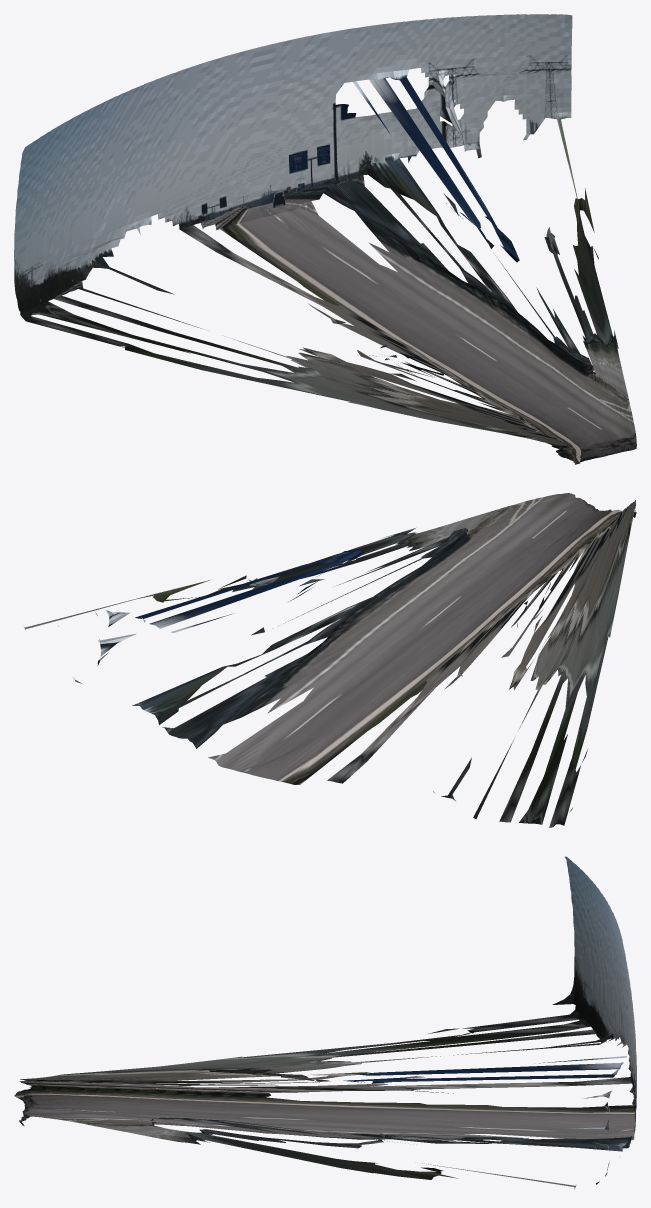
3 renders of one model, top to bottom at view 1: azimuth 30°, elevation 25°; view 2: azimuth 150°, elevation 25°; view 3: azimuth 270°, elevation 25°, orthographic. The views are drawn at different scales.
Parts seen in each view (by area): view 1: defaultobject; view 2: defaultobject; view 3: defaultobject.
Boxes of the visible parts, <box> form: defaultobject: <box>14,14,636,464</box>; defaultobject: <box>24,493,636,827</box>; defaultobject: <box>14,856,636,1189</box>.
Size of the model in its own units: 41.14 by 13.27 by 44.73.
Materials: 1 (1 with a texture image).
